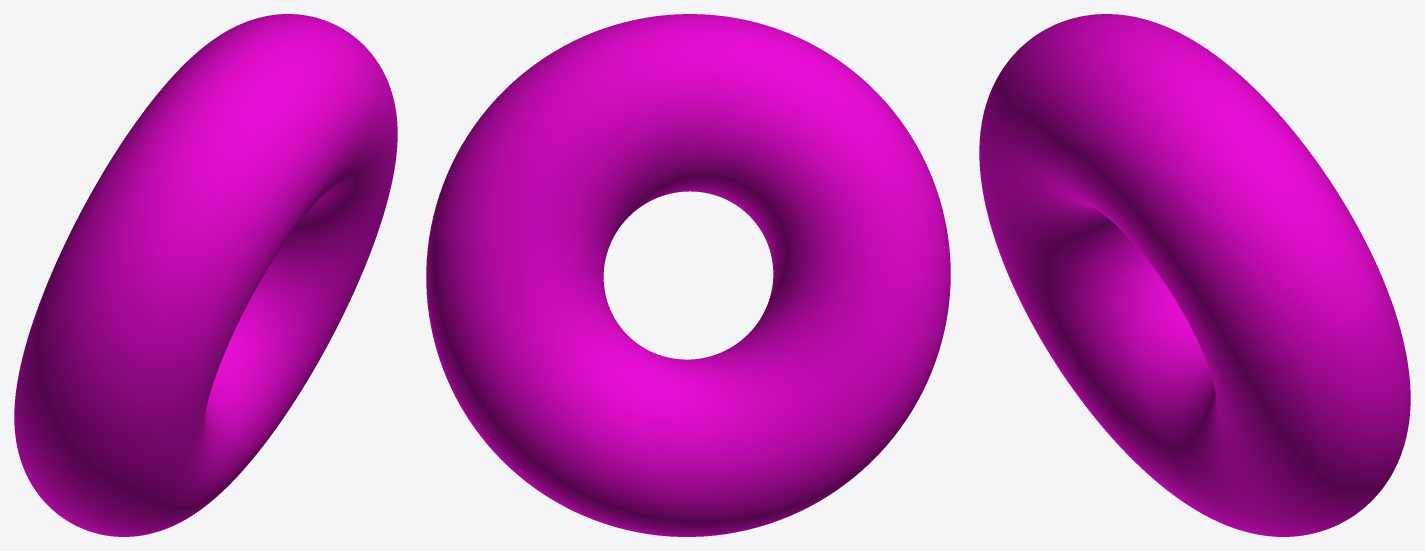
File: torrus.glb
3 views of the same model, side by side, from view 1: azimuth 30°, elevation 25°; view 2: azimuth 150°, elevation 25°; view 3: azimuth 270°, elevation 25° (orthographic). The views are drawn at different scales.
Parts seen in each view (by area): view 1: Torus.002; view 2: Torus.002; view 3: Torus.002.
Boxes of the visible parts, x1,y1,x2,y2 form: Torus.002: [14, 14, 397, 536]; Torus.002: [426, 14, 950, 536]; Torus.002: [979, 14, 1410, 536].
Bounding box in the file's own units: 0.9315 × 1 × 0.7777.
